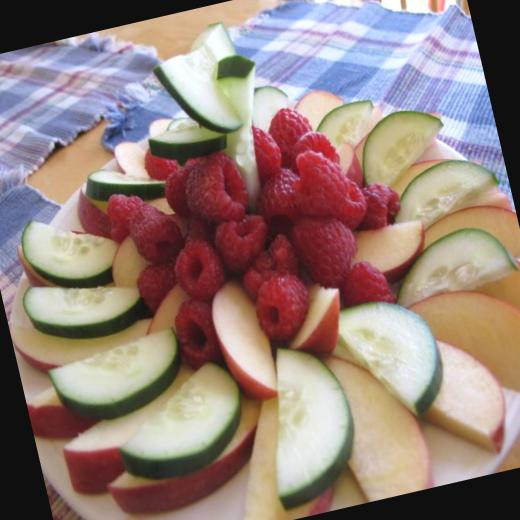Apple: (0, 43, 520, 520), (423, 287, 520, 429)
